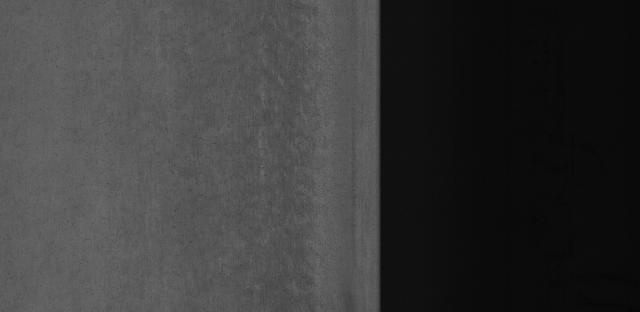silk_spot: (178, 188, 285, 276), (164, 52, 251, 150), (280, 90, 342, 187)
